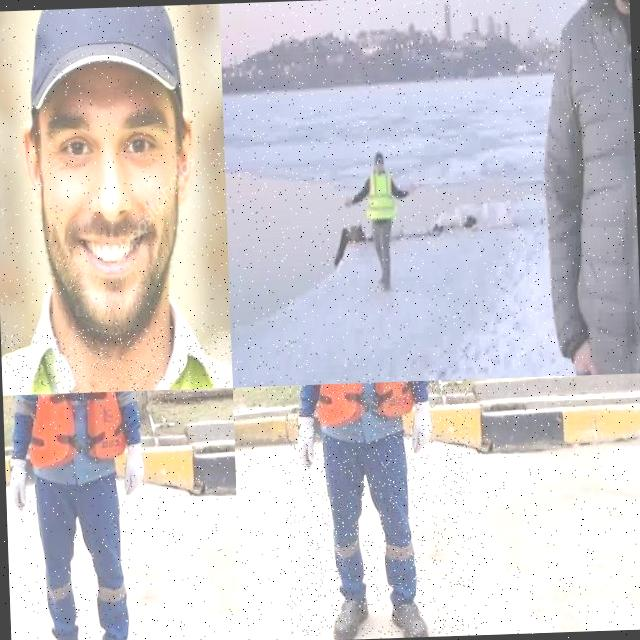boots: (326, 592, 371, 640), (392, 594, 432, 638), (39, 634, 81, 640)
vest: (22, 391, 130, 472), (311, 380, 418, 430), (364, 170, 398, 224)
